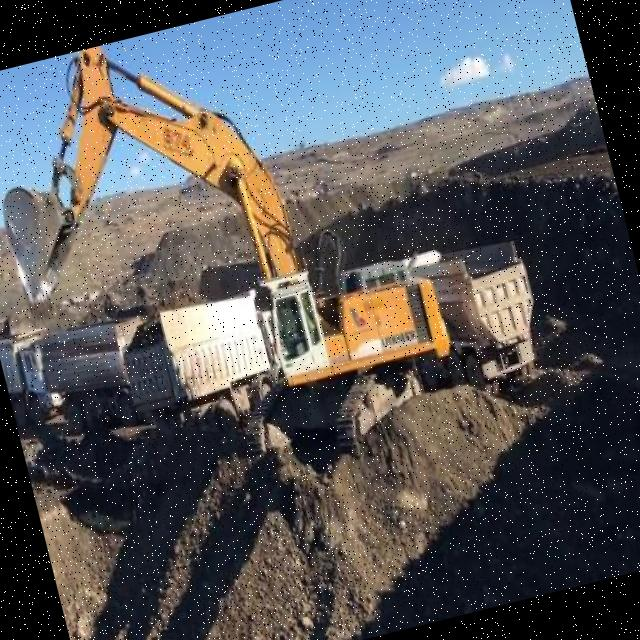Dump Truck: (109, 285, 277, 426), (426, 228, 556, 404), (0, 309, 61, 439)
Excavator: (0, 0, 467, 515)
